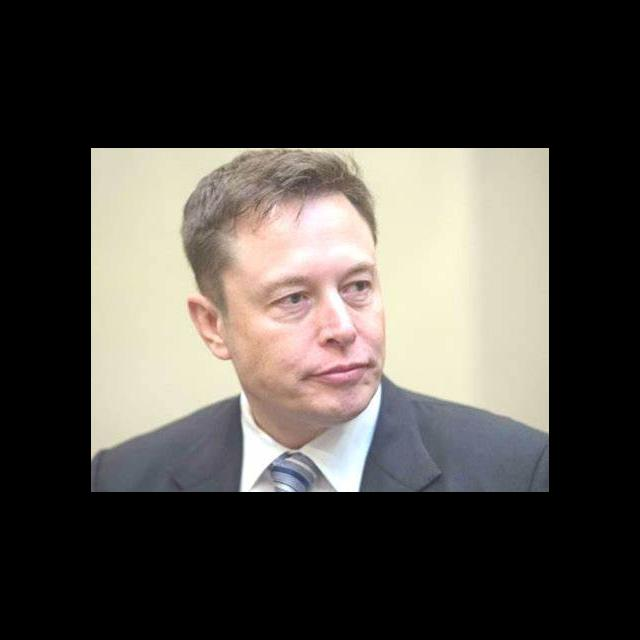male: (160, 156, 447, 405)
